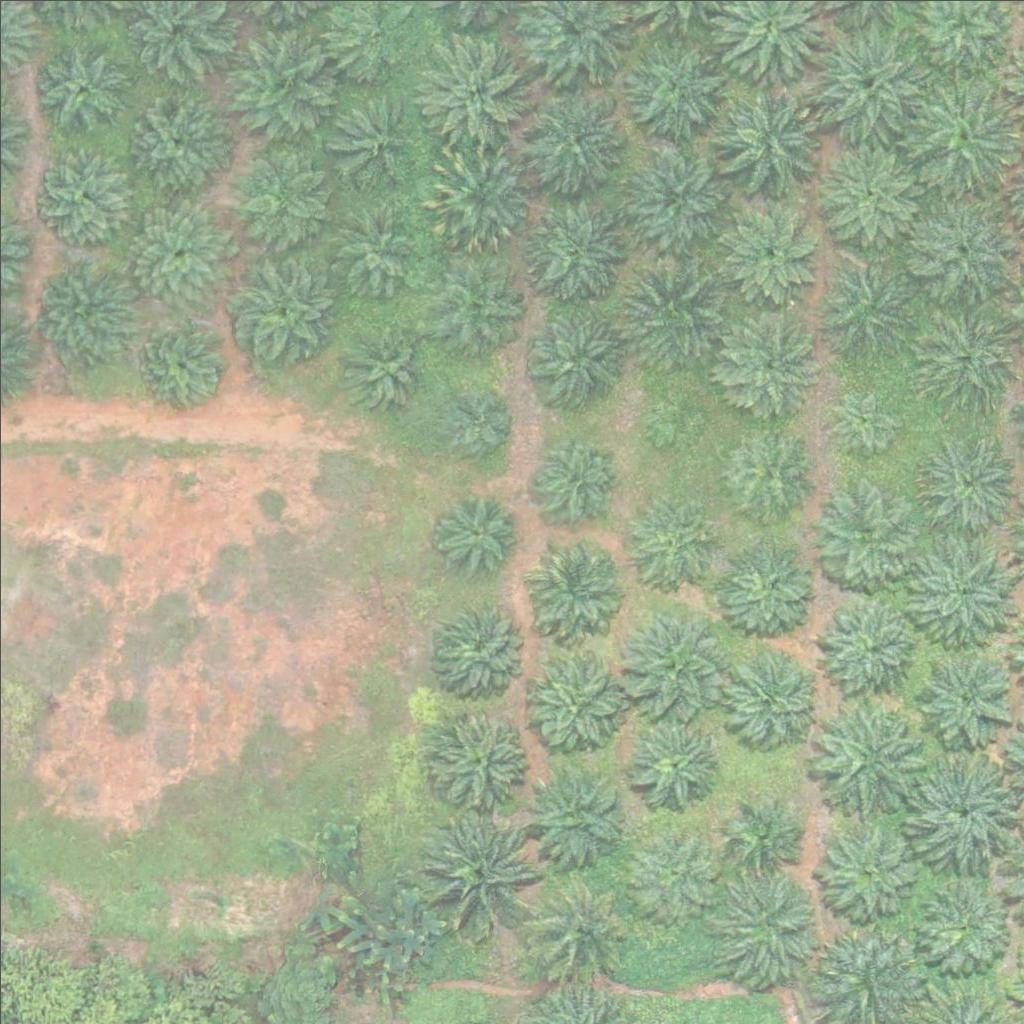Kelapa_Sawit: (710, 868, 823, 982), (518, 647, 631, 761), (620, 608, 733, 722), (120, 194, 233, 308), (116, 82, 229, 196), (422, 139, 535, 252), (519, 298, 632, 411), (903, 530, 1016, 643), (905, 86, 1018, 199), (808, 26, 921, 139), (418, 35, 531, 148), (813, 814, 925, 928), (421, 812, 533, 925), (909, 762, 1021, 875), (811, 697, 923, 810), (516, 754, 628, 867), (519, 190, 631, 303), (618, 261, 730, 374), (620, 139, 732, 252), (908, 189, 1020, 302), (712, 85, 824, 198), (622, 32, 734, 145), (219, 25, 331, 138), (523, 876, 623, 977), (915, 645, 1015, 746), (429, 710, 529, 811), (427, 254, 527, 355), (616, 491, 716, 592), (718, 542, 818, 643), (714, 423, 814, 524), (722, 315, 822, 416), (722, 204, 822, 305), (818, 597, 918, 698), (817, 485, 917, 586), (815, 259, 915, 360), (817, 143, 917, 244), (917, 436, 1017, 537), (920, 303, 1020, 404), (526, 89, 626, 190), (30, 255, 130, 356), (914, 880, 1014, 980), (725, 647, 825, 747), (623, 824, 723, 924), (626, 712, 726, 812), (427, 597, 527, 697), (526, 537, 626, 637), (234, 256, 334, 356), (221, 146, 321, 246), (30, 147, 130, 247), (27, 36, 127, 136), (434, 485, 522, 573), (339, 323, 427, 411), (328, 93, 416, 181), (324, 203, 411, 291), (533, 433, 620, 521), (139, 320, 226, 408), (727, 802, 802, 878), (829, 379, 904, 454), (446, 390, 509, 453), (645, 387, 707, 450)
